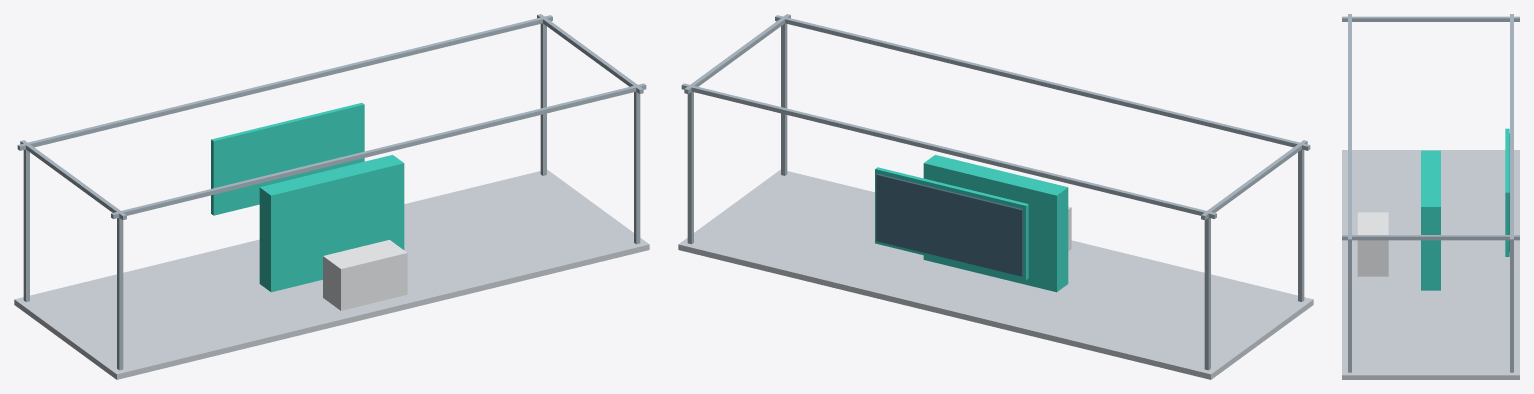
3 views of the same model, side by side, from view 1: azimuth 30°, elevation 25°; view 2: azimuth 150°, elevation 25°; view 3: azimuth 270°, elevation 25° (orthographic). The views are drawn at different scales.
Parts seen in each view (by area): view 1: Exhibition Booth Concept; view 2: Exhibition Booth Concept; view 3: Exhibition Booth Concept.
Boxes of the visible parts, left/top/right/bottom form: Exhibition Booth Concept: left=14, top=14, right=649, bottom=379; Exhibition Booth Concept: left=678, top=14, right=1313, bottom=379; Exhibition Booth Concept: left=1342, top=14, right=1519, bottom=379.
Size of the model in its own units: 12 by 3.49 by 4.
